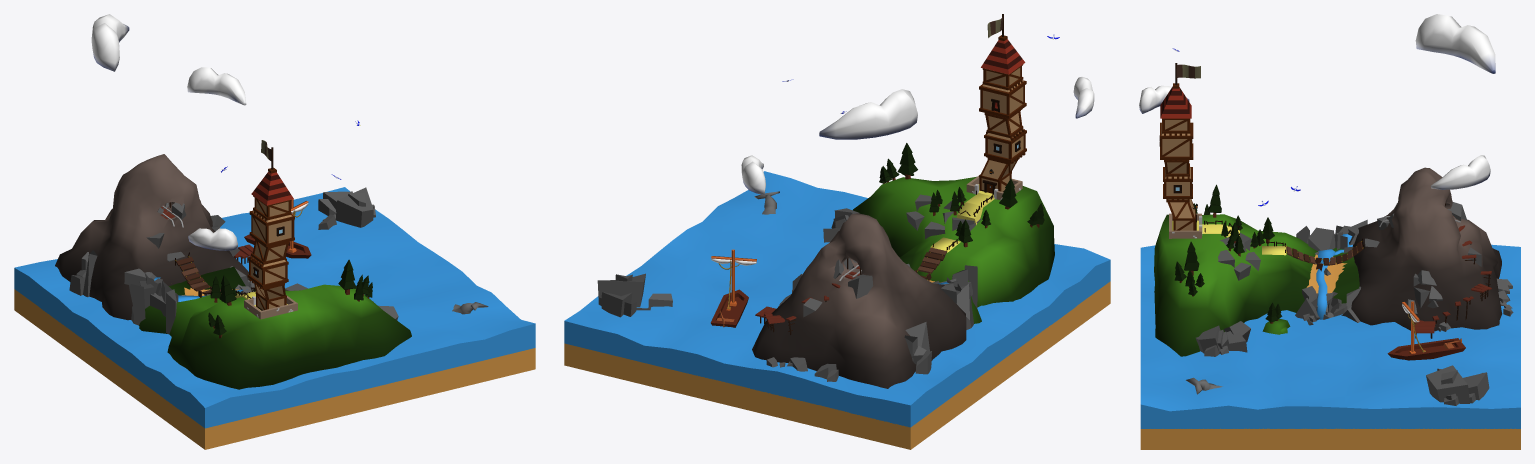
The model's file is diorama.fbx.
3 views of the same model, side by side, from view 1: azimuth 30°, elevation 25°; view 2: azimuth 150°, elevation 25°; view 3: azimuth 270°, elevation 25° (orthographic). The views are drawn at different scales.
Parts seen in each view (by area): view 1: eau, Montagne chateau, Montagne 2, fond_eau, tour, Box234, Box235, Rock052, Box236, Box066, Rock081; view 2: eau, Montagne 2, Montagne chateau, fond_eau, tour, Box234, Rock052, Box054, Box235, Box236, chemin001, Rock053; view 3: eau, Montagne 2, Montagne chateau, fond_eau, Box234, tour, Box235, Box054, Rock052, riviere, Box236, Box020 (+4 smaller).
Part boxes in pixels (x1=…): eau: x1=14, y1=187, x2=535, y2=428; Montagne chateau: x1=139, y1=266, x2=411, y2=389; Montagne 2: x1=55, y1=154, x2=249, y2=320; fond_eau: x1=14, y1=289, x2=535, y2=449; tour: x1=251, y1=172, x2=293, y2=310; Box234: x1=91, y1=14, x2=129, y2=71; Box235: x1=187, y1=67, x2=246, y2=105; Rock052: x1=335, y1=187, x2=373, y2=227; Box236: x1=188, y1=228, x2=237, y2=250; Box066: x1=244, y1=296, x2=297, y2=319; Rock081: x1=129, y1=284, x2=145, y2=325; eau: x1=564, y1=171, x2=1110, y2=427; Montagne 2: x1=752, y1=213, x2=966, y2=388; Montagne chateau: x1=853, y1=176, x2=1054, y2=323; fond_eau: x1=564, y1=281, x2=1110, y2=449; tour: x1=981, y1=39, x2=1025, y2=191; Box234: x1=819, y1=89, x2=917, y2=139; Rock052: x1=597, y1=273, x2=645, y2=307; Box054: x1=710, y1=289, x2=748, y2=327; Box235: x1=741, y1=155, x2=765, y2=195; Box236: x1=1073, y1=77, x2=1094, y2=118; chemin001: x1=956, y1=193, x2=994, y2=225; Rock053: x1=601, y1=292, x2=632, y2=317; eau: x1=1140, y1=244, x2=1520, y2=428; Montagne 2: x1=1351, y1=167, x2=1502, y2=331; Montagne chateau: x1=1154, y1=214, x2=1359, y2=356; fond_eau: x1=1140, y1=428, x2=1520, y2=449; Box234: x1=1415, y1=14, x2=1495, y2=73; tour: x1=1160, y1=86, x2=1194, y2=230; Box235: x1=1431, y1=155, x2=1490, y2=189; Box054: x1=1387, y1=338, x2=1465, y2=360; Rock052: x1=1426, y1=365, x2=1469, y2=403; riviere: x1=1316, y1=249, x2=1334, y2=319; Box236: x1=1139, y1=85, x2=1189, y2=113; Box020: x1=1306, y1=254, x2=1346, y2=293.
Size of the model in its own units: 67.39 by 58.65 by 67.69.
